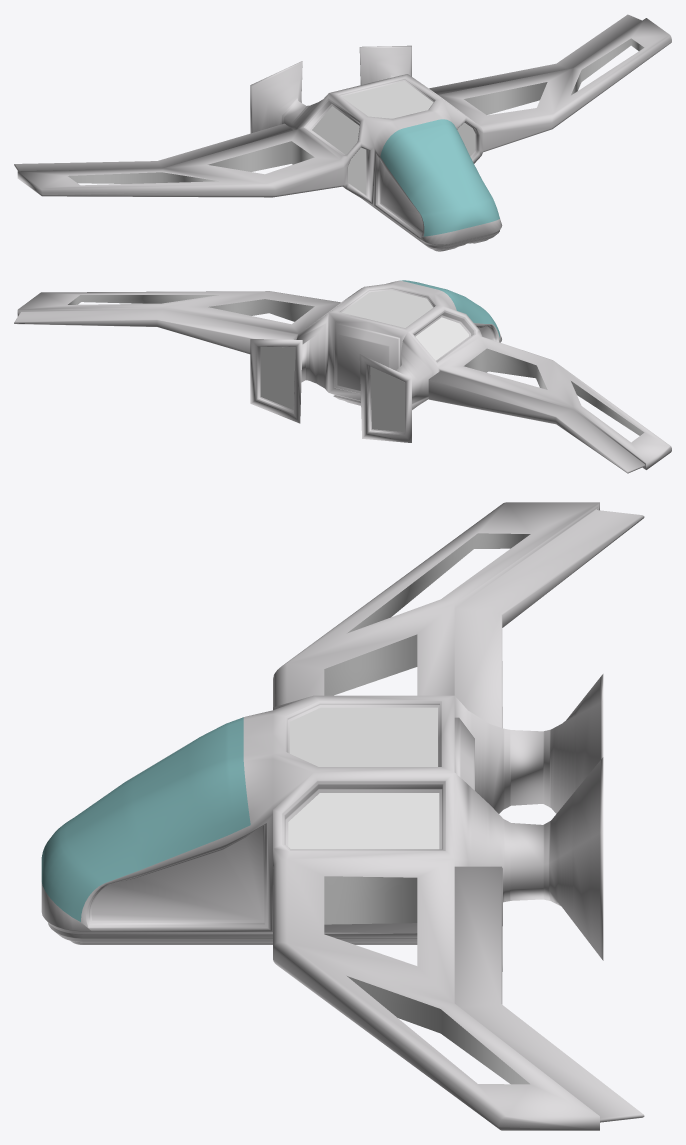
File: Nave.fbx
3 views of the same model, one above another, from view 1: azimuth 30°, elevation 25°; view 2: azimuth 150°, elevation 25°; view 3: azimuth 270°, elevation 25° (orthographic). The views are drawn at different scales.
Parts seen in each view (by area): view 1: Metal, Emisor, Cabina; view 2: Metal, Emisor, Fuego, Cabina; view 3: Metal, Emisor, Cabina.
Boxes of the visible parts, left/top/right/bottom form: Metal: left=14, top=14, right=671, bottom=251; Emisor: left=68, top=38, right=644, bottom=194; Cabina: left=380, top=119, right=499, bottom=236; Metal: left=14, top=280, right=671, bottom=473; Emisor: left=68, top=290, right=644, bottom=435; Fuego: left=260, top=346, right=404, bottom=431; Cabina: left=400, top=280, right=499, bottom=337; Metal: left=41, top=502, right=644, bottom=1130; Emisor: left=288, top=533, right=530, bottom=1084; Cabina: left=41, top=717, right=250, bottom=921.
Size of the model in its own units: 15.98 by 2.3 by 6.63.
